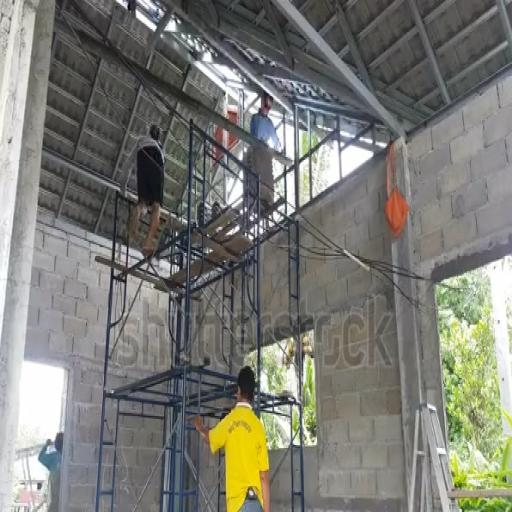Helmet-Detection: (237, 364, 255, 401), (259, 94, 272, 114), (149, 125, 162, 143)
head and helmet: (238, 366, 255, 402), (261, 92, 273, 115), (150, 125, 161, 143), (55, 432, 63, 452)
